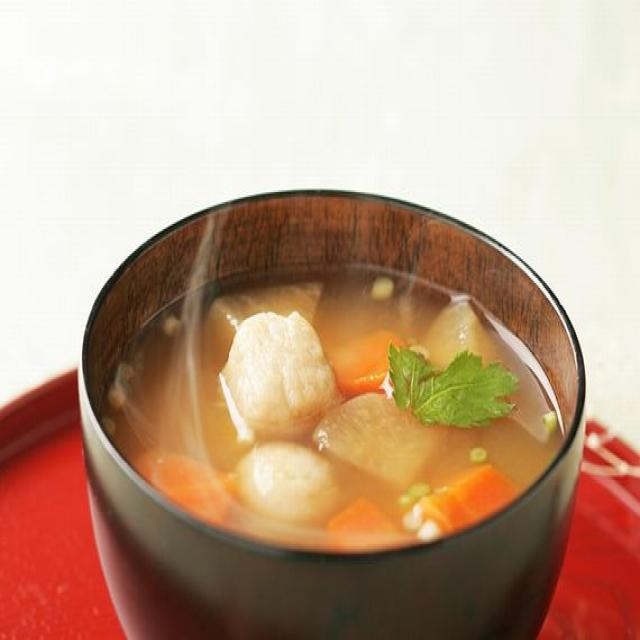汤锅炖物: (69, 178, 591, 640)
